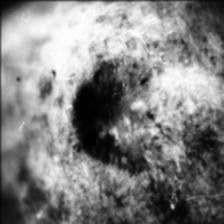Potentially Malignant Skin Tumors: (57, 51, 182, 190)
